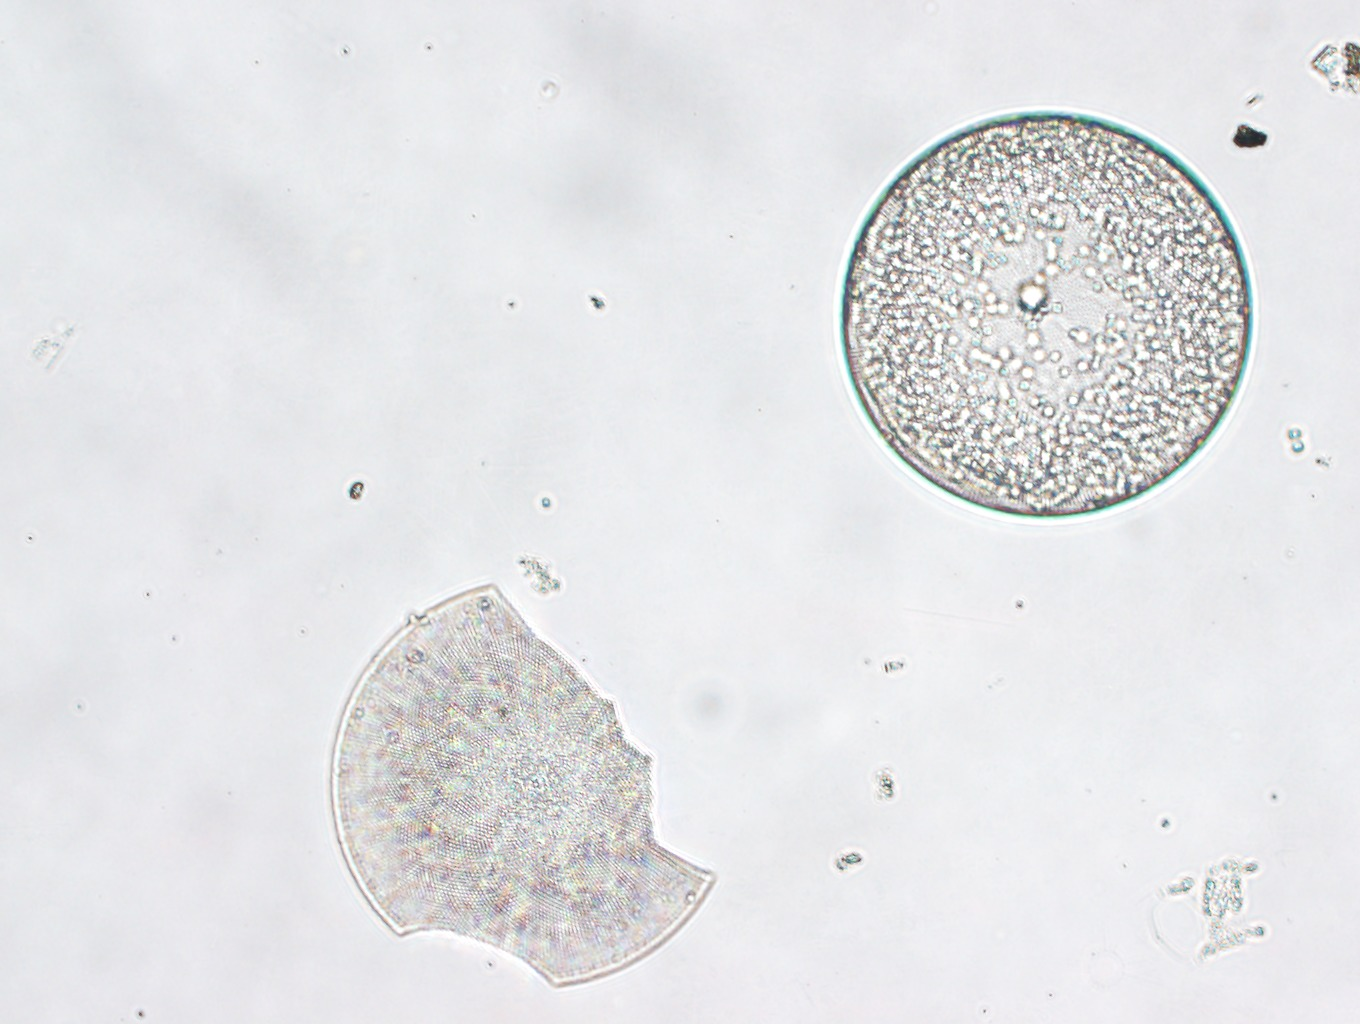coscinodiscus: (835, 106, 1256, 522), (328, 579, 714, 985)
